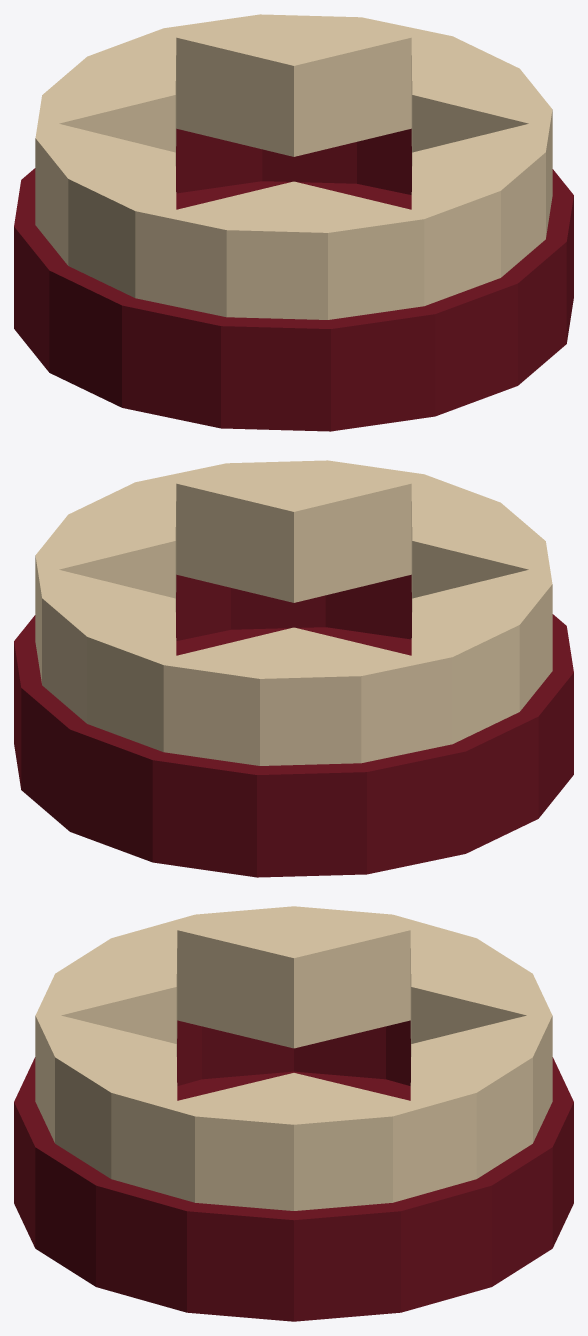
The model's file is Attacher_MagenDavid.fbx.
3 views of the same model, one above another, from view 1: azimuth 30°, elevation 25°; view 2: azimuth 150°, elevation 25°; view 3: azimuth 270°, elevation 25° (orthographic).
Parts seen in each view (by area): view 1: Attacher_MagenDavid; view 2: Attacher_MagenDavid; view 3: Attacher_MagenDavid.
Part boxes in pixels (<box>): Attacher_MagenDavid: <box>14,14,573,431</box>; Attacher_MagenDavid: <box>14,460,573,877</box>; Attacher_MagenDavid: <box>14,906,573,1321</box>.
Size of the model in its own units: 83.61 by 30.95 by 83.61.
